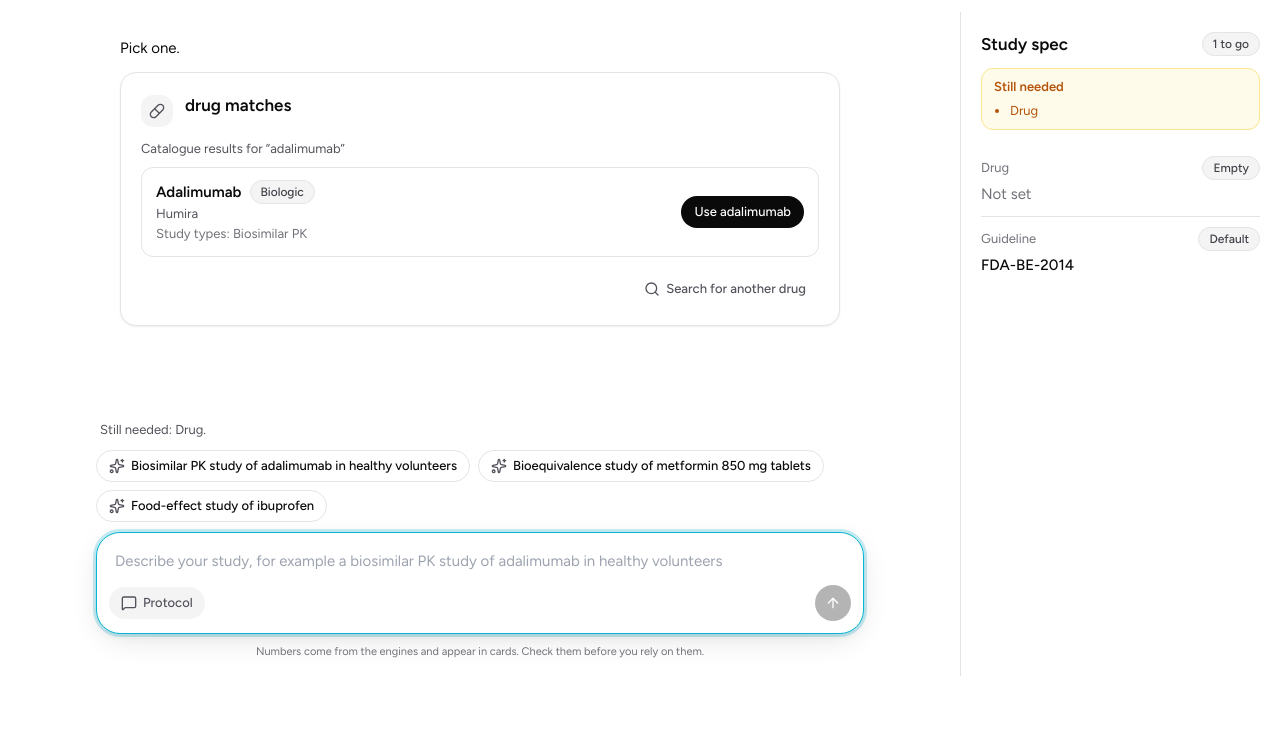
Test: ChatPage › clicking a card button sends the action with the spec version, then shows what came back
Click the button "Use adalimumab" at (743, 212), box [681,196,804,228]
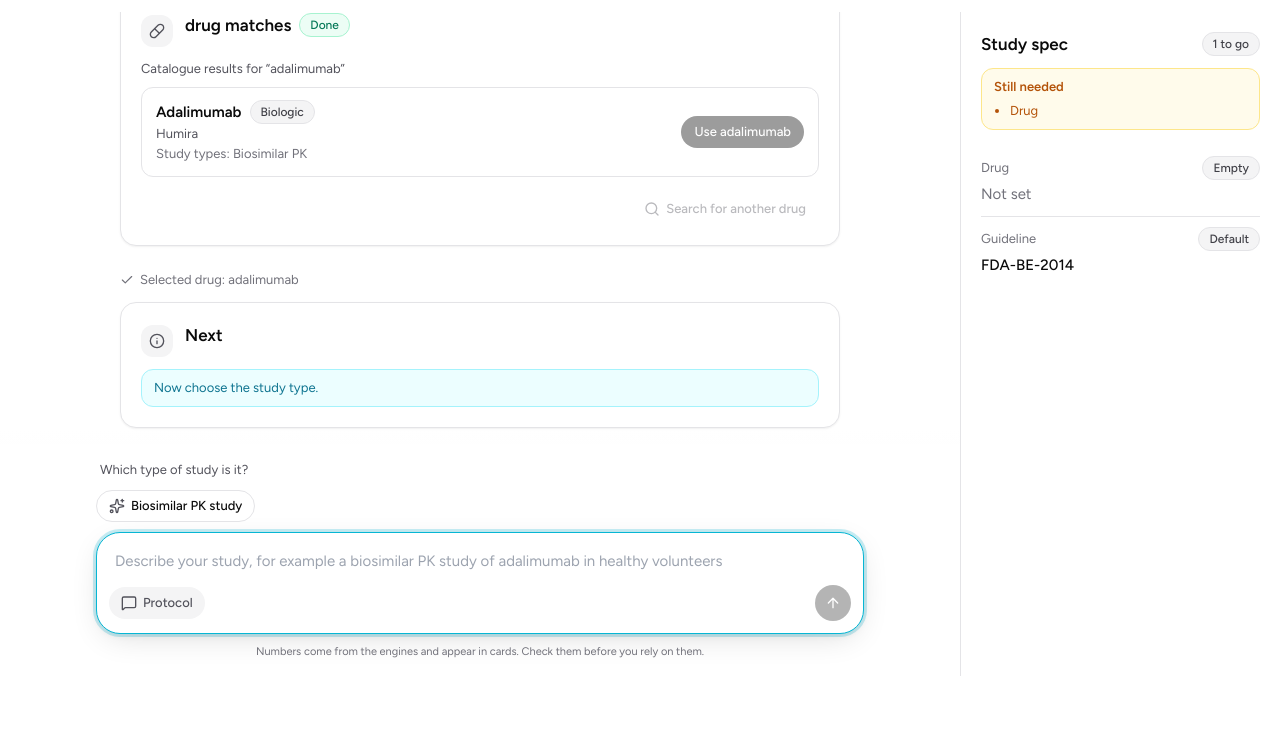
Result: the text "Now choose the study type." is shown at [141,369,819,407]
Result: the text "Selected drug: adalimumab" is shown at [140,270,299,290]
Result: the text "Which type of study is it?" is shown at [100,462,248,476]
